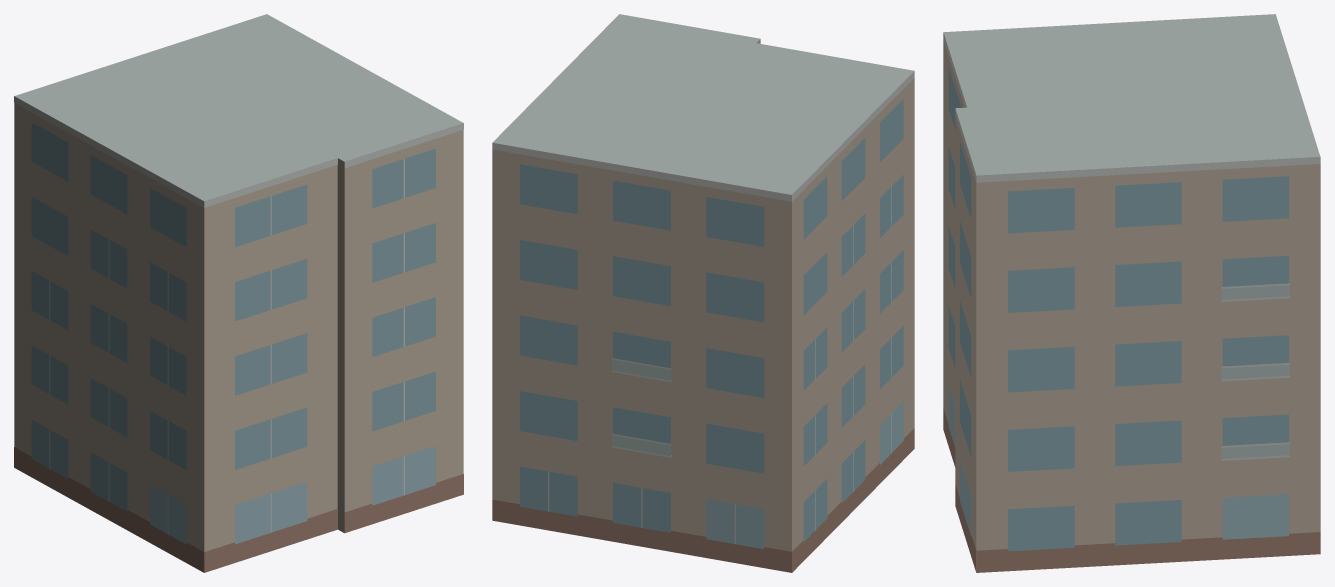
Rendered from survey-upis-32532076.glb.
3 views of the same model, side by side, from view 1: azimuth 30°, elevation 25°; view 2: azimuth 150°, elevation 25°; view 3: azimuth 270°, elevation 25° (orthographic). The views are drawn at different scales.
Visible parts, largest first — view 1: survey-upis-32532076.tmp; view 2: survey-upis-32532076.tmp; view 3: survey-upis-32532076.tmp.
Boxes of the visible parts, x1=… form: survey-upis-32532076.tmp: x1=14, y1=14, x2=463, y2=572; survey-upis-32532076.tmp: x1=492, y1=14, x2=914, y2=572; survey-upis-32532076.tmp: x1=943, y1=14, x2=1320, y2=572.
Bounding box in the file's own units: 11.91 × 13.65 × 11.75.
